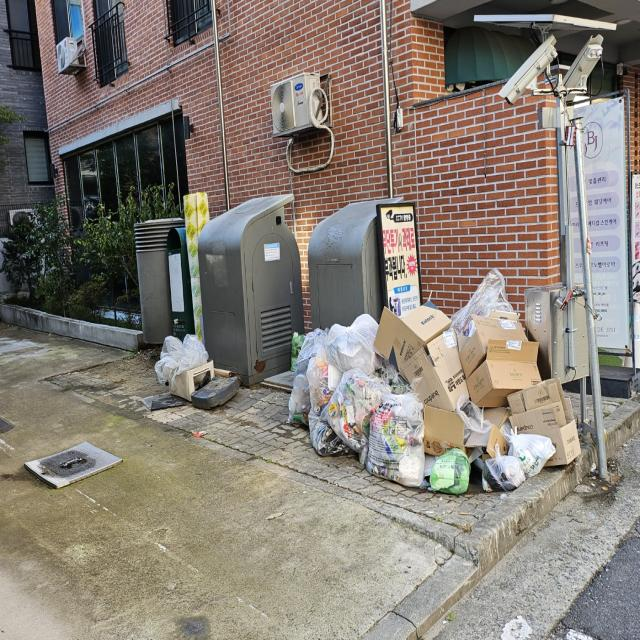CleanNet: (195, 178, 313, 390), (301, 187, 411, 357)
General Waste: (451, 258, 550, 410), (376, 298, 468, 407), (514, 375, 583, 481), (291, 305, 389, 379), (150, 334, 234, 416), (362, 393, 426, 495), (503, 428, 562, 486), (279, 371, 319, 436), (427, 452, 476, 501), (476, 451, 528, 496)
